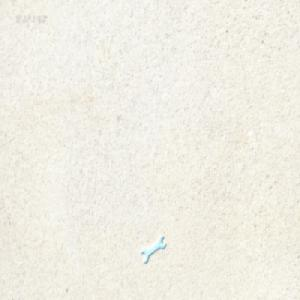Wrench: (141, 235, 165, 264)
